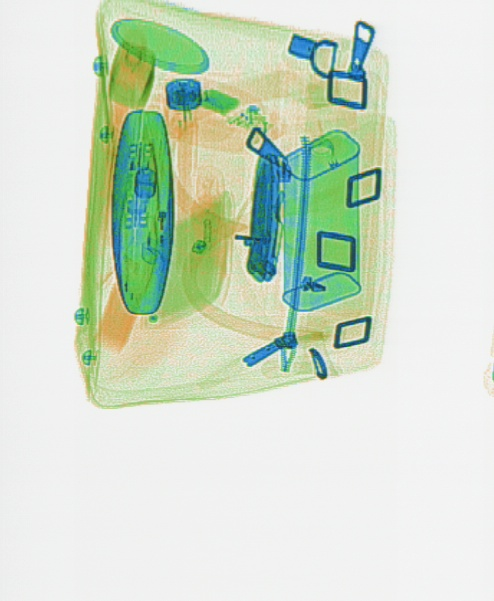knife: (243, 147, 285, 281)
lighter: (138, 179, 172, 264)
zippooil: (276, 127, 362, 313)
